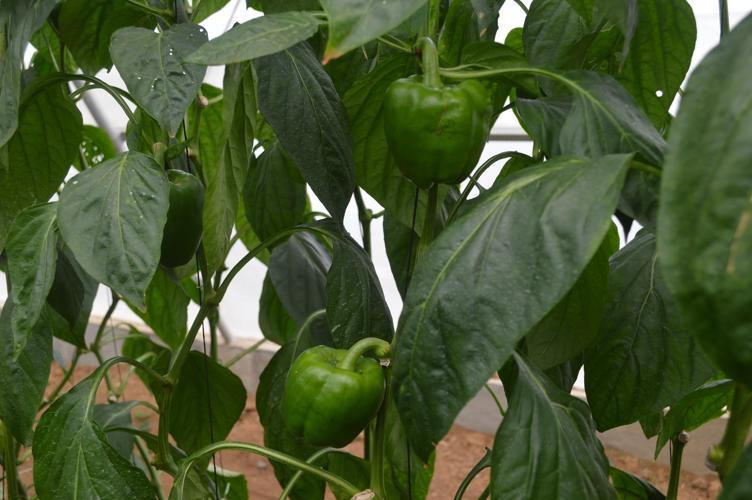BellPepper: (388, 72, 495, 192), (279, 346, 382, 445), (156, 169, 213, 272)
